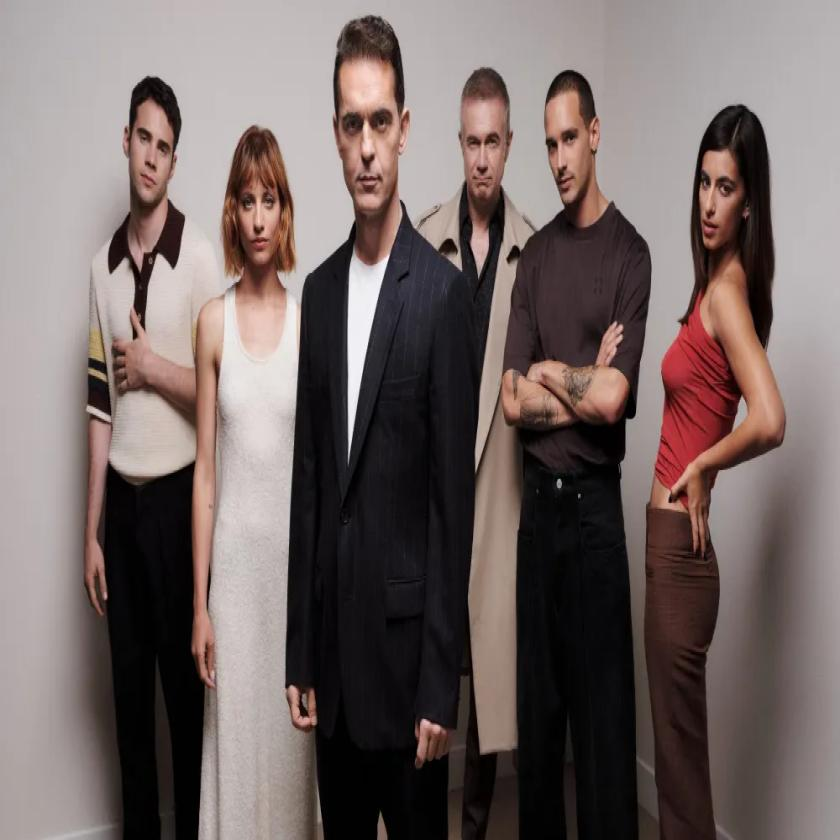Sin_casco: (330, 11, 420, 251), (692, 92, 777, 308), (224, 110, 298, 300), (118, 63, 188, 235), (543, 67, 603, 231), (454, 64, 516, 222)
